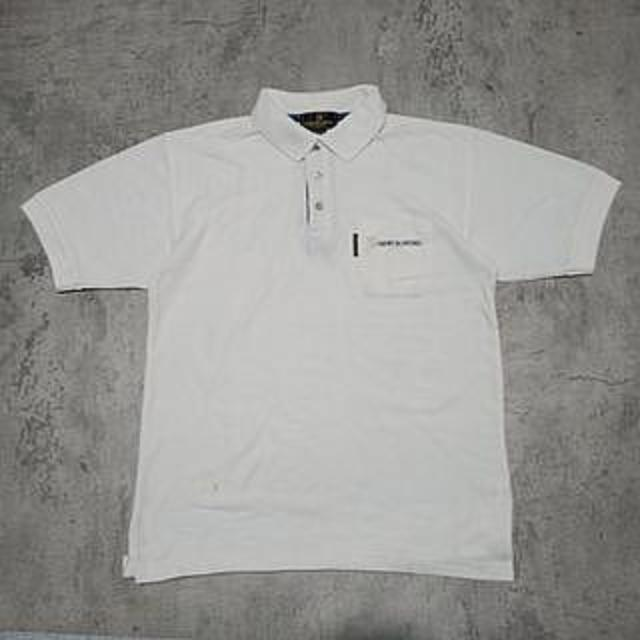T_SHIRT: (0, 76, 640, 594)
